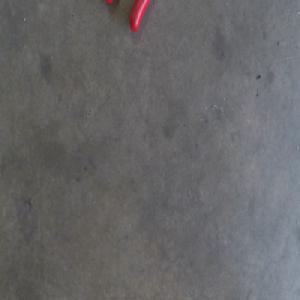Pliers: (104, 0, 150, 32)
